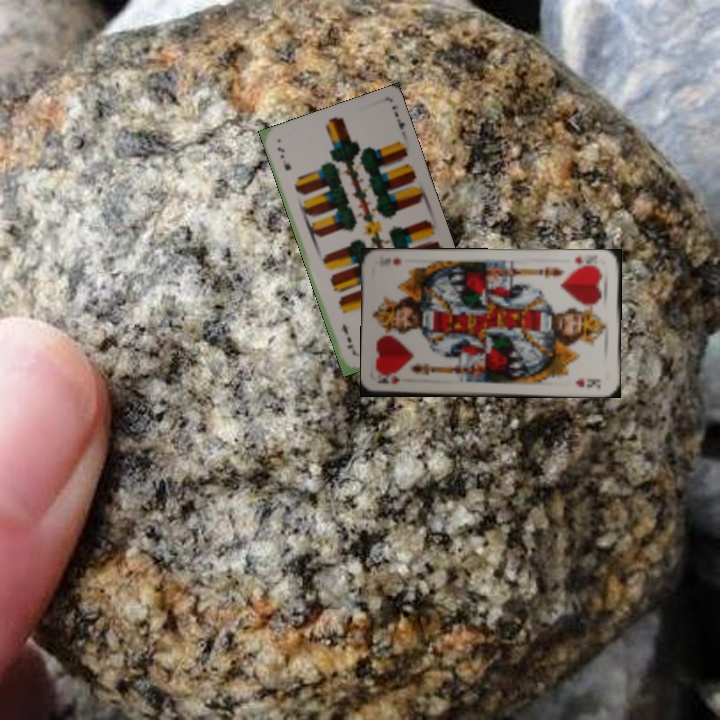E7: (273, 143, 294, 173)
HK: (571, 253, 602, 272), (375, 372, 402, 387)
